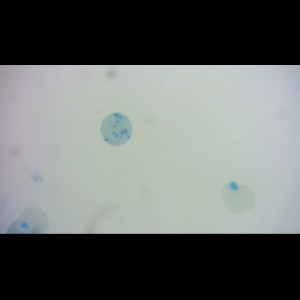aggregate reticulocyte: (99, 111, 135, 148)
erythrocyte: (219, 180, 258, 215)
